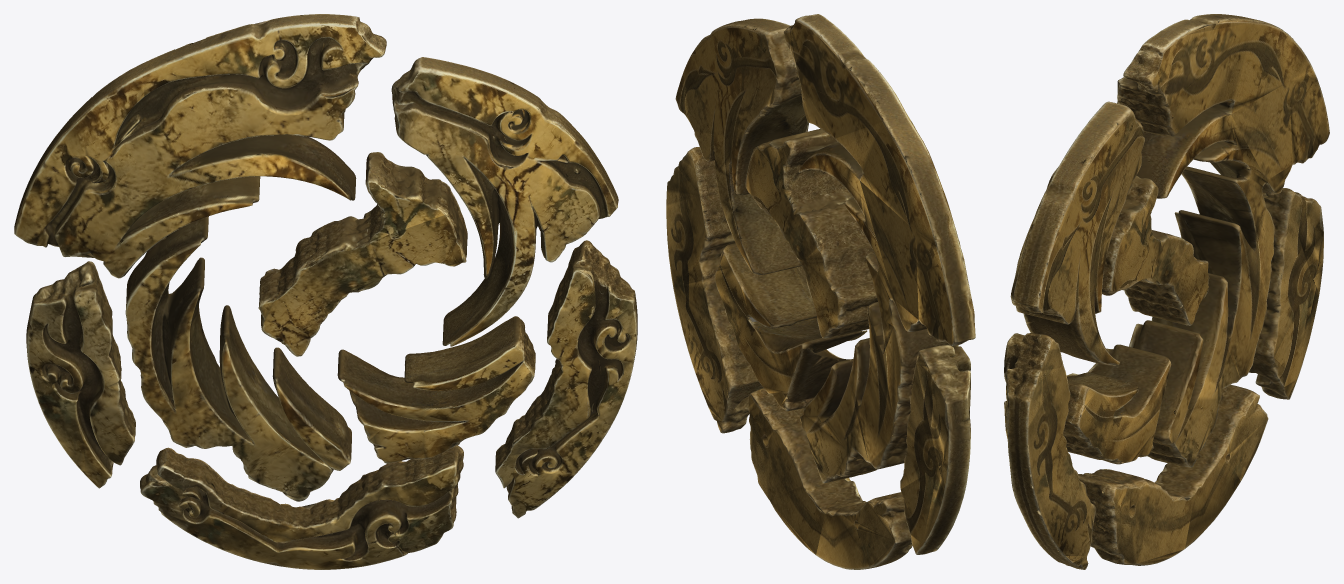
Rendered from 14-sunbird-fragment.glb.
The picture shows the model from 3 angles, left to right: view 1: azimuth 30°, elevation 25°; view 2: azimuth 150°, elevation 25°; view 3: azimuth 270°, elevation 25°; orthographic projection. The views are drawn at different scales.
Parts seen in each view (by area): view 1: Meshy_AI_Fractured_Golden_Reli_0817195200_texture; view 2: Meshy_AI_Fractured_Golden_Reli_0817195200_texture; view 3: Meshy_AI_Fractured_Golden_Reli_0817195200_texture.
Part boxes in pixels (x1=…): Meshy_AI_Fractured_Golden_Reli_0817195200_texture: x1=14, y1=14, x2=637, y2=569; Meshy_AI_Fractured_Golden_Reli_0817195200_texture: x1=666, y1=14, x2=975, y2=569; Meshy_AI_Fractured_Golden_Reli_0817195200_texture: x1=1004, y1=14, x2=1329, y2=569.
Size of the model in its own units: 0.6023 by 0.6682 by 0.3816.
Materials: 1 (1 with a texture image).
